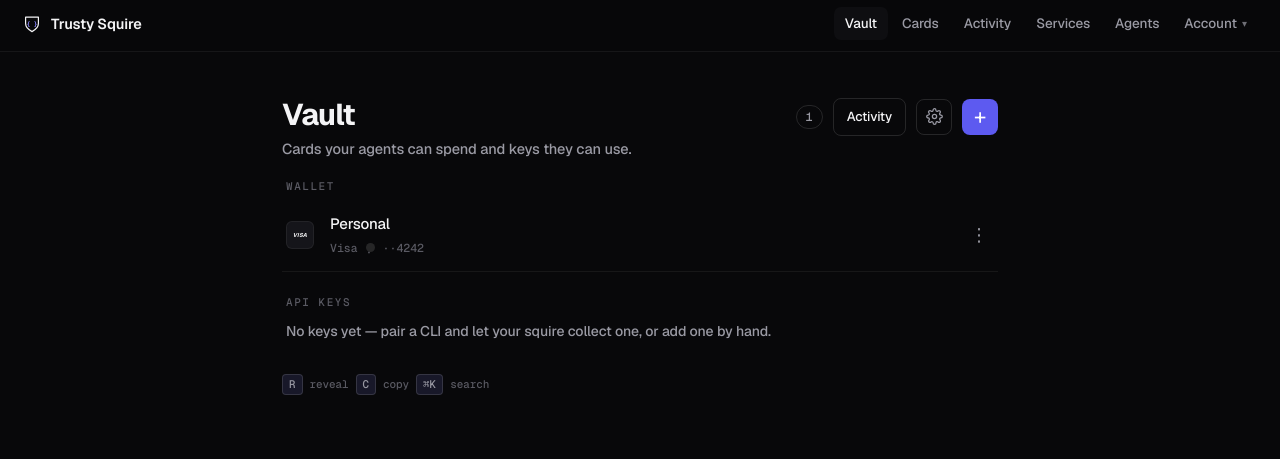
it: card detail view › clicking the row opens the details: added date + masked PAN + reveal
The width and height of the screenshot is (1280, 459).
Expected: the text "Personal" is shown, [330,214,390,233]
Click the button with aria-label "Details for Personal": (360, 224) [330,213,948,256]
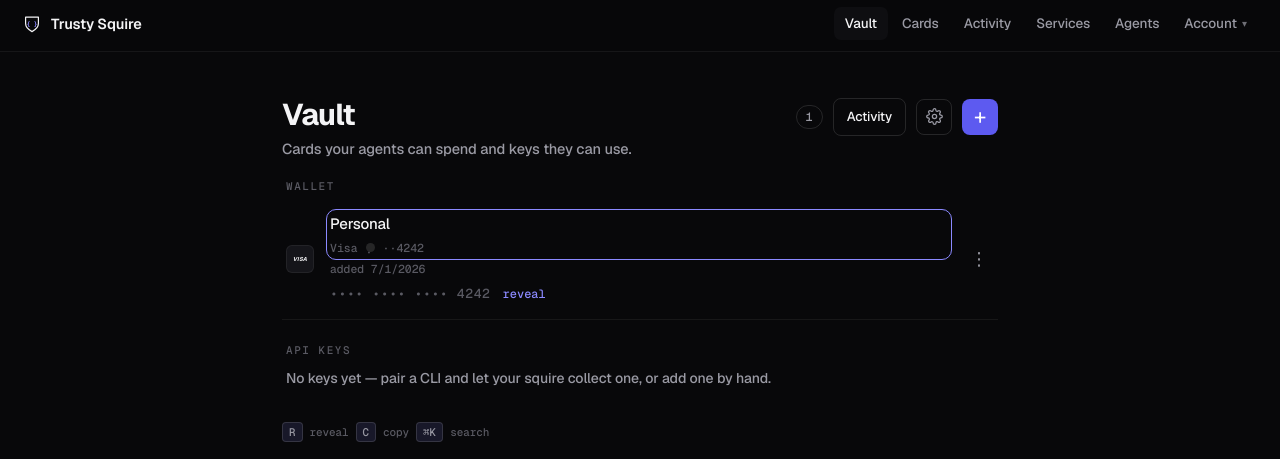
Expected: the text "added 7/1/2026" is shown, [330,260,425,277]
Expected: the text "•••• •••• •••• 4242" is shown, [330,284,491,304]
Expected: the button "reveal" is shown, [503,285,546,303]
